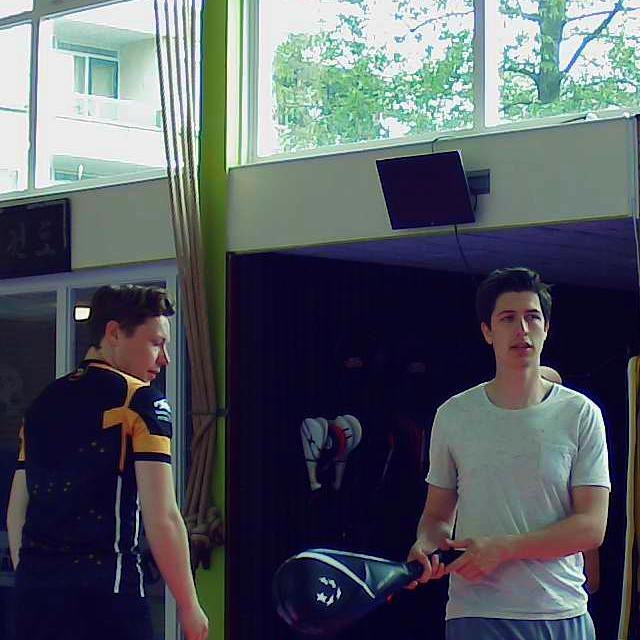paddle: (274, 541, 466, 640)
